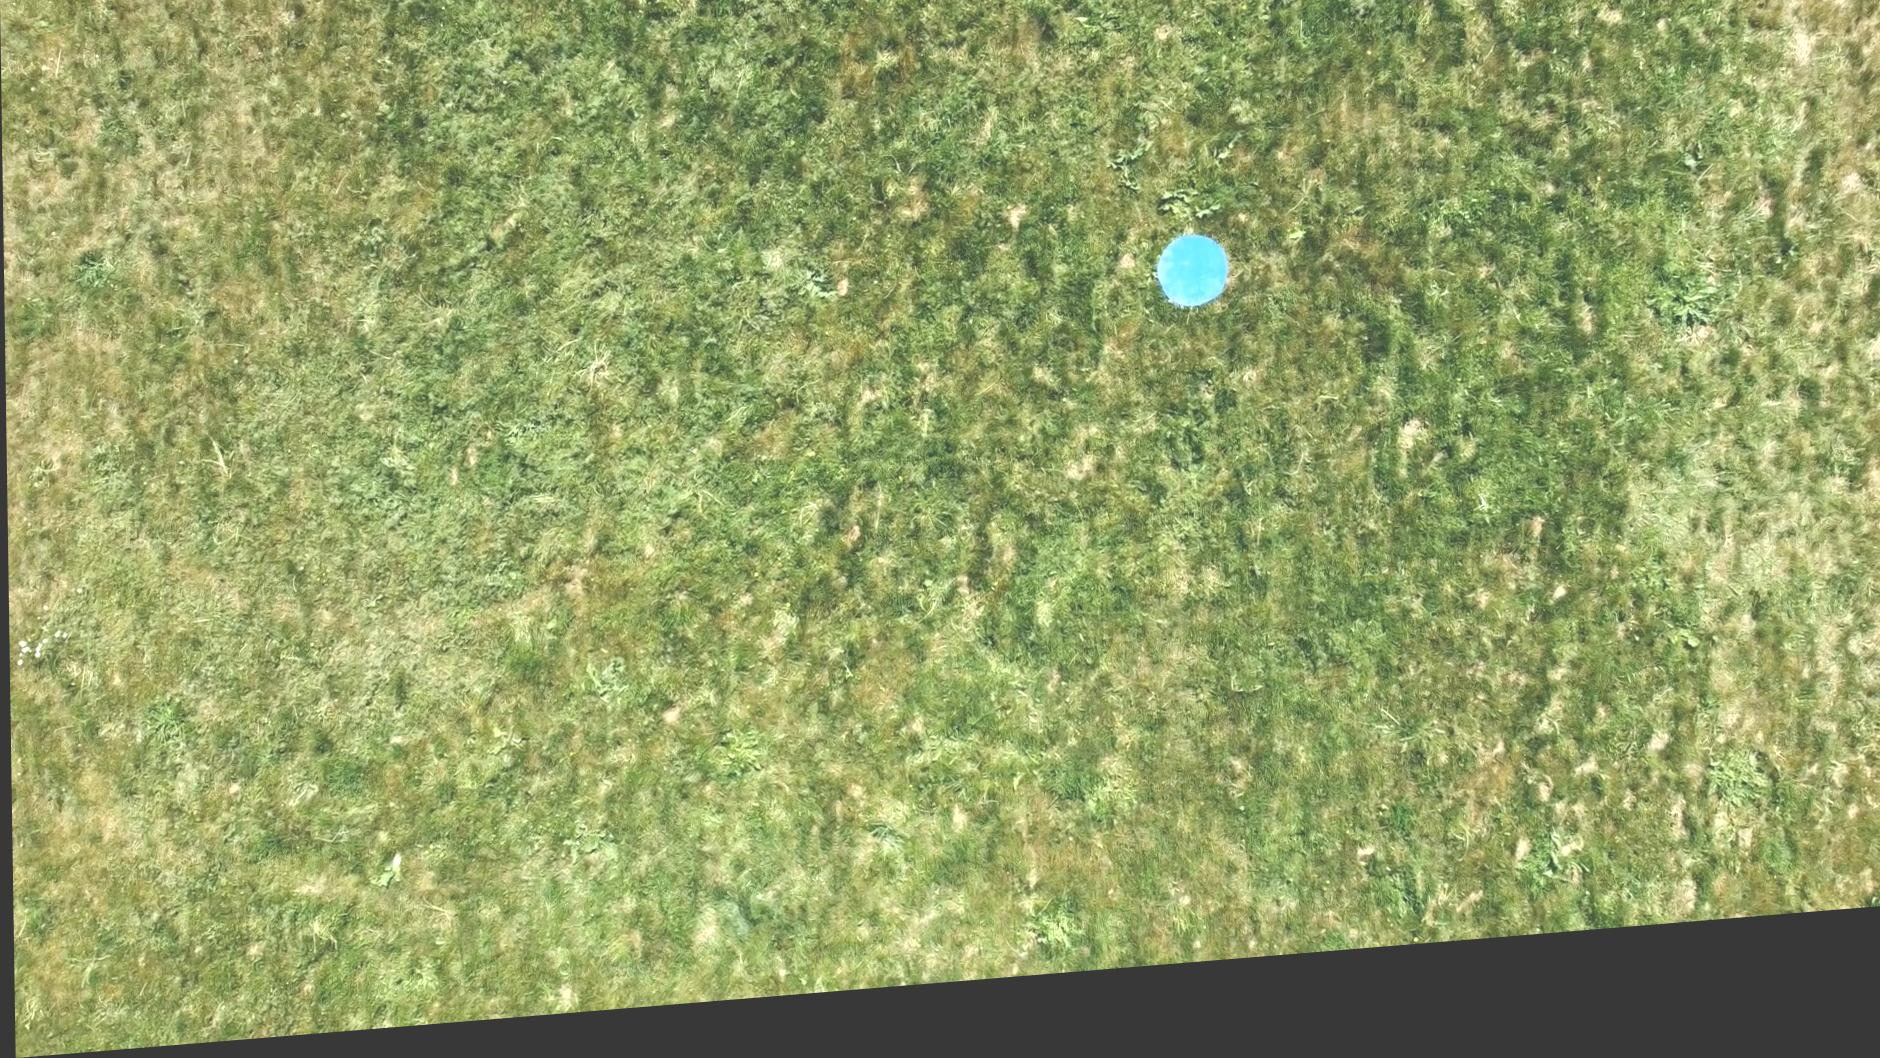Blue: (1154, 251, 1232, 333)
